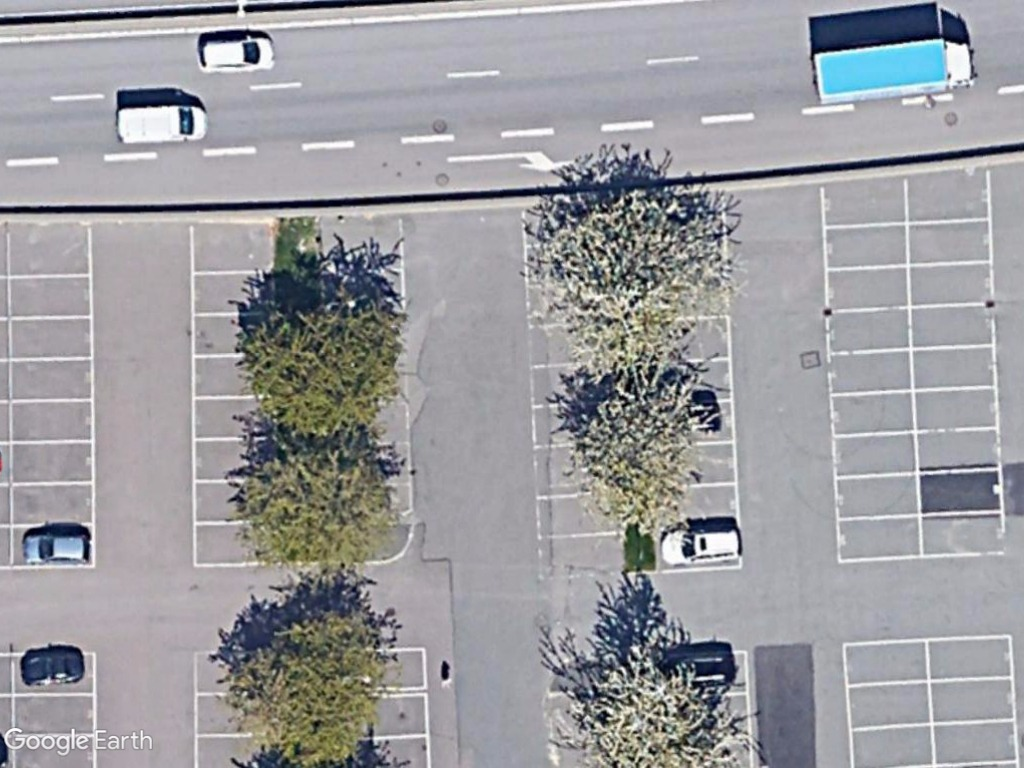car: (653, 518, 752, 574), (189, 32, 281, 80), (14, 640, 90, 693), (17, 527, 98, 571)
truck: (807, 34, 982, 111)
van: (107, 103, 215, 149)
